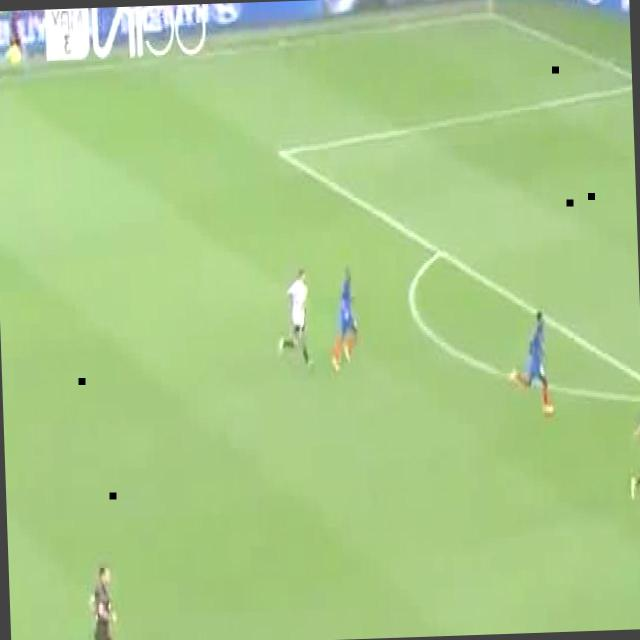player-white: (56, 562, 130, 640), (507, 309, 553, 422), (276, 266, 316, 368), (328, 267, 360, 373), (628, 397, 640, 502)
